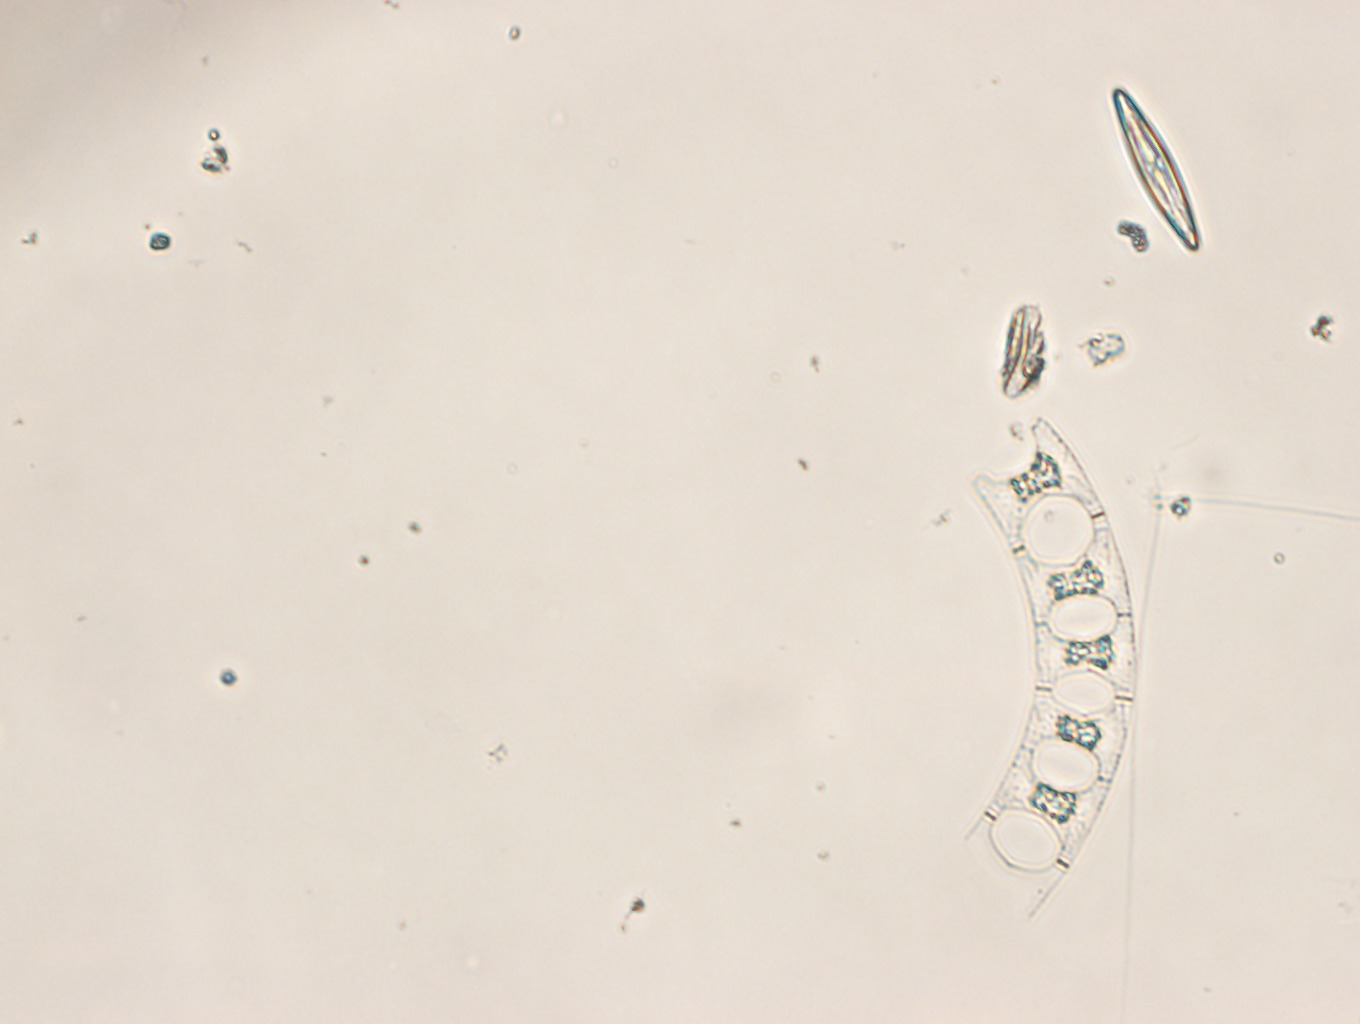eucampia: (969, 418, 1136, 909)
navicula: (1110, 85, 1200, 252)
